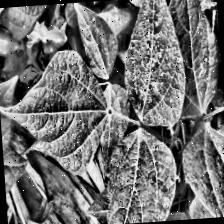Bean Rust: (0, 49, 110, 176), (115, 0, 188, 124), (99, 128, 177, 224), (181, 125, 224, 219), (74, 0, 118, 54)
